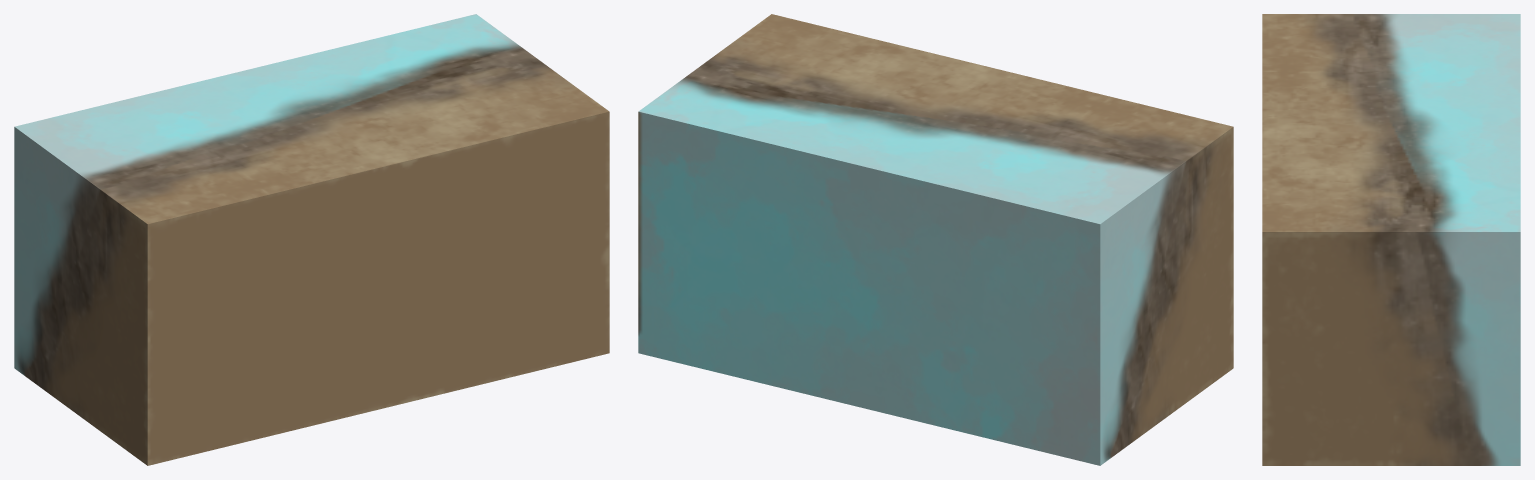
File: groundchange_sand_ice.fbx
3 views of the same model, side by side, from view 1: azimuth 30°, elevation 25°; view 2: azimuth 150°, elevation 25°; view 3: azimuth 270°, elevation 25° (orthographic). The views are drawn at different scales.
Visible parts, largest first — view 1: desert_ground_sanddirt5; view 2: desert_ground_sanddirt5; view 3: desert_ground_sanddirt5.
Boxes of the visible parts, x1,y1,x2,y2 form: desert_ground_sanddirt5: (14,14,609,465); desert_ground_sanddirt5: (638,14,1233,465); desert_ground_sanddirt5: (1262,14,1520,465).
Bounding box in the file's own units: 200 × 100 × 100.
